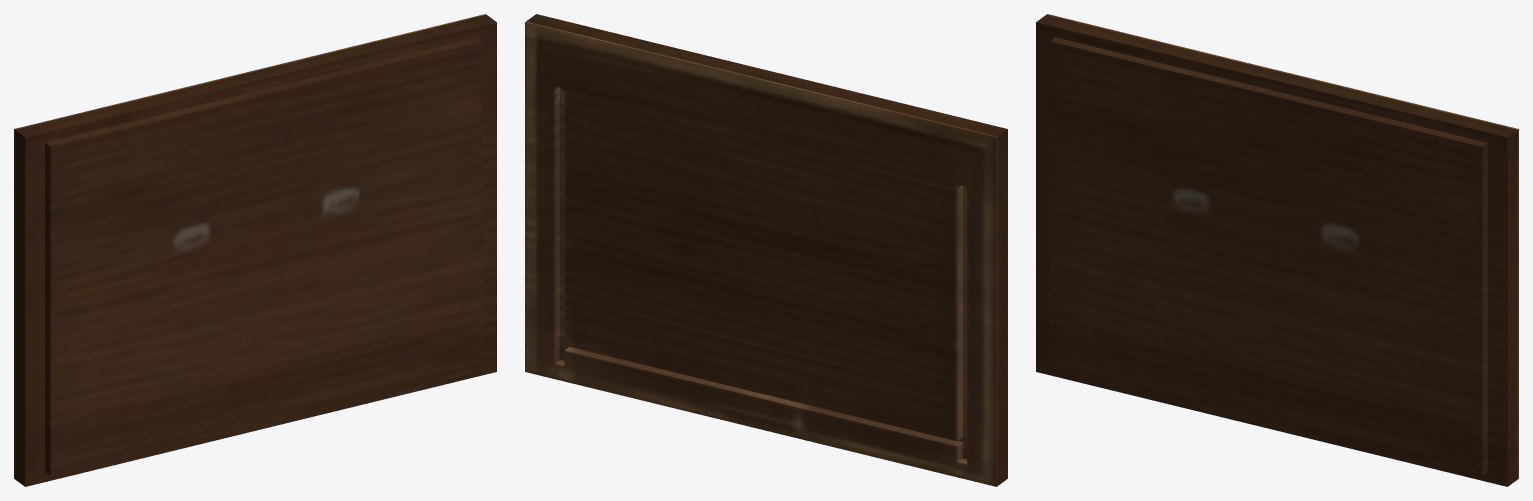
File: link_5__drawer_front-113.glb
3 renders of one model, left to right at view 1: azimuth 30°, elevation 25°; view 2: azimuth 150°, elevation 25°; view 3: azimuth 330°, elevation 25°, orthographic.
Visible parts, largest first — view 1: geometry_0; view 2: geometry_0; view 3: geometry_0.
Boxes of the visible parts, left/top/right/bottom form: geometry_0: left=14, top=14, right=496, bottom=486; geometry_0: left=525, top=14, right=1007, bottom=486; geometry_0: left=1036, top=14, right=1518, bottom=486.
Bounding box in the file's own units: 0.2521 × 0.1785 × 0.0158.
1 material, 1 textured.
